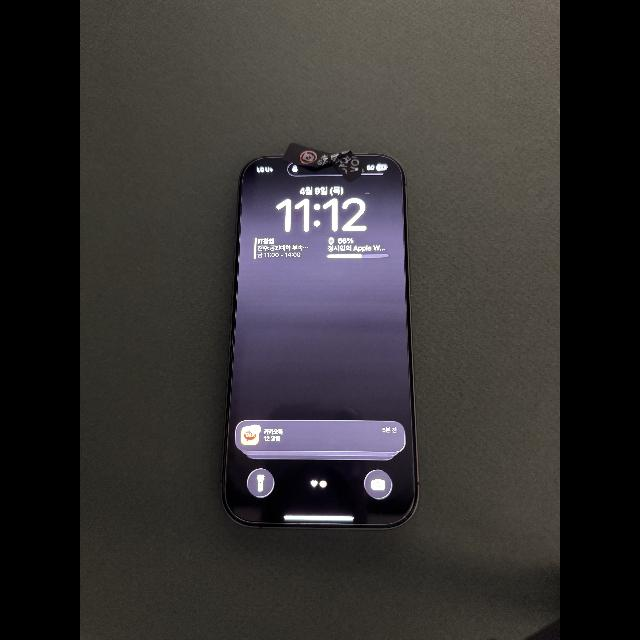phone: (221, 154, 419, 529)
sticker: (283, 143, 364, 181)
